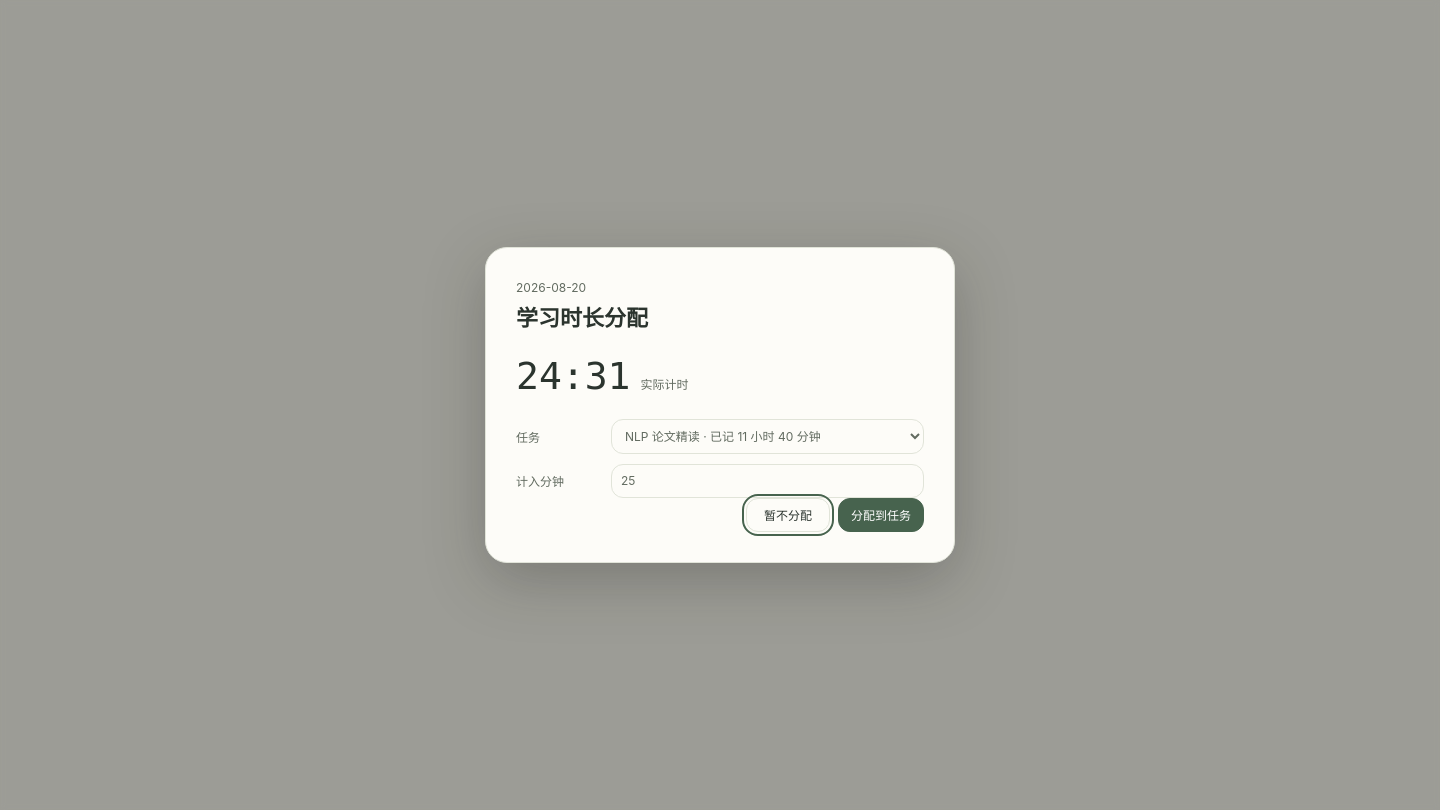
Test case: TimerAssignmentDialog › rejects an assignment that would make the whole day exceed 1440 minutes
Replace the text in the number field labelled "计入分钟" with "50" at [768, 481], box [611,464,924,498]
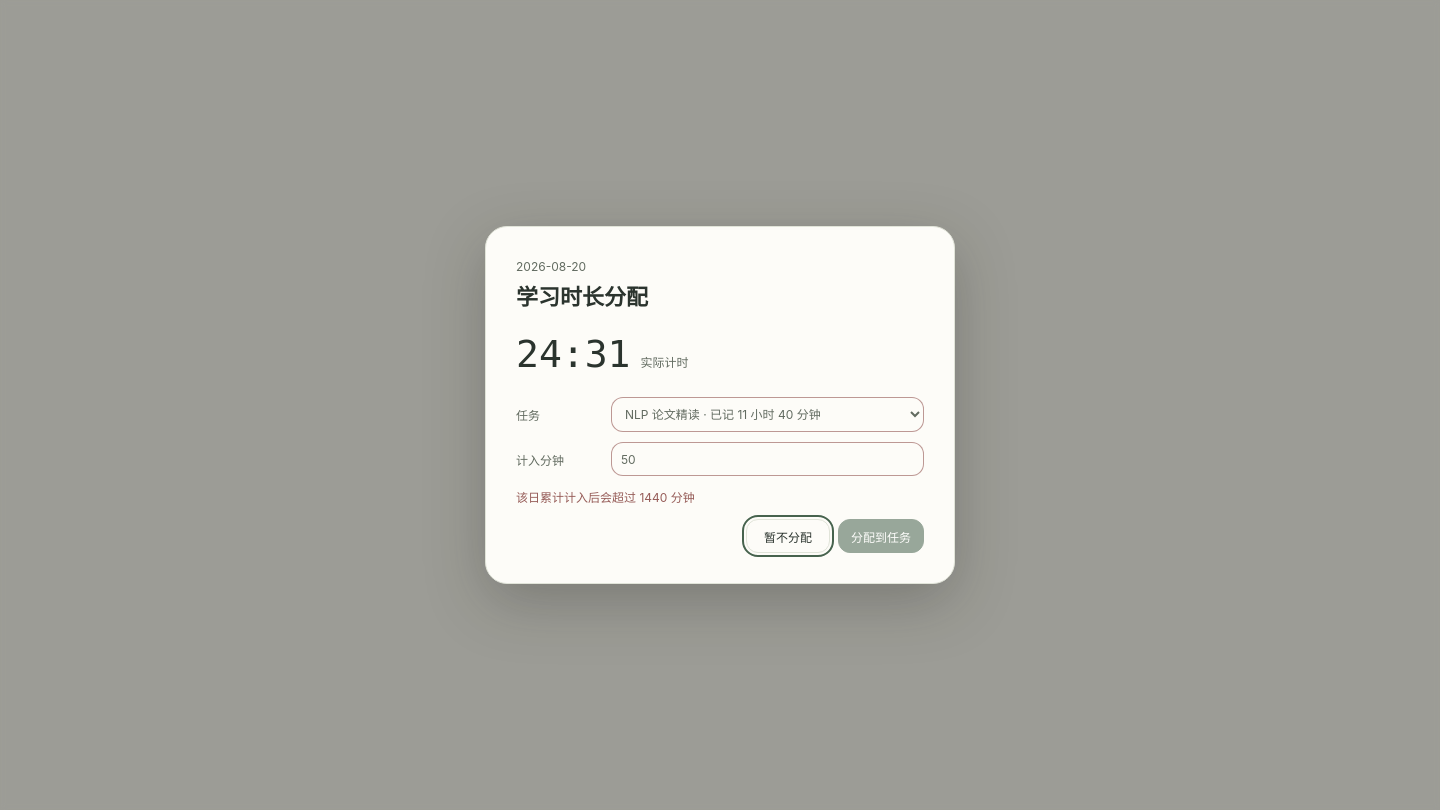
Now the message reads "该日累计计入后会超过 1440 分钟", box [516,490,695,505]
Now the button "分配到任务" is disabled, box [838,519,924,553]
